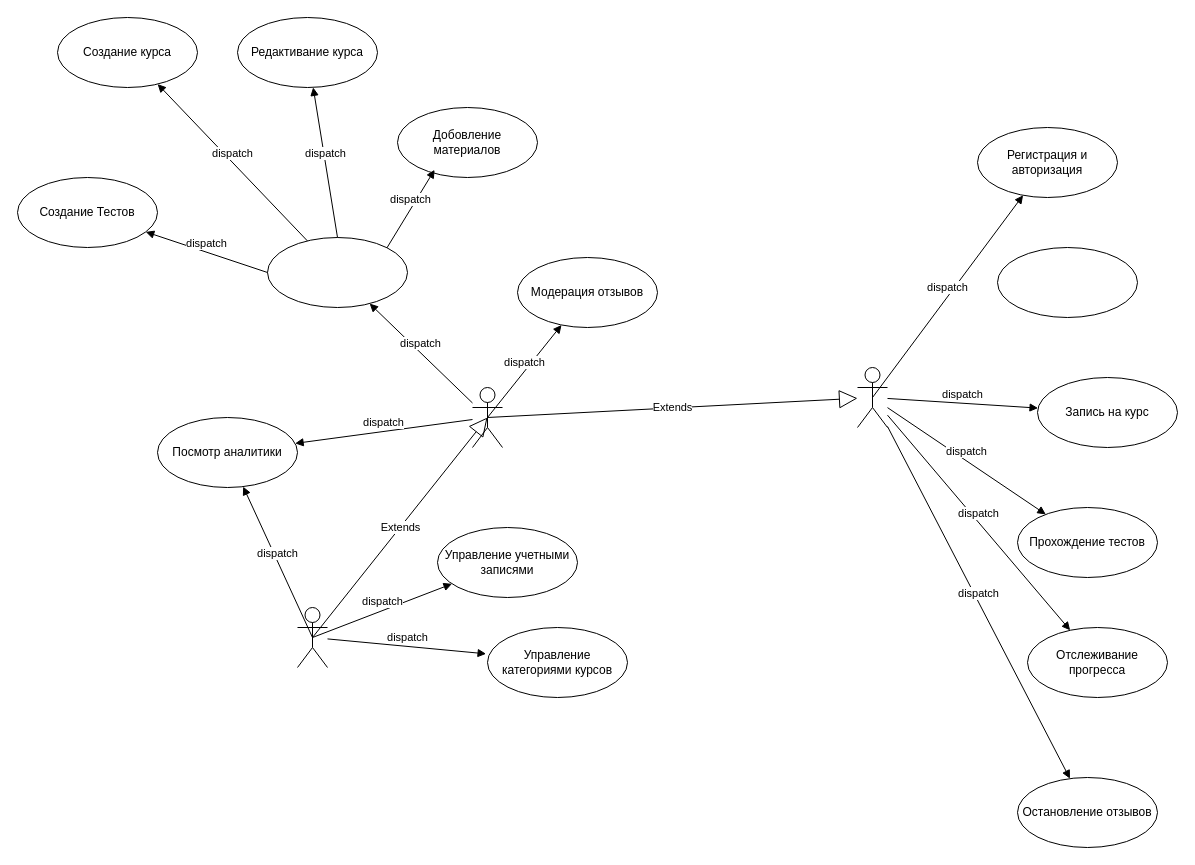
This 1195x865 diagram has some shape labels left out. The shapes that lost their labels are listed below. From the top down, each one's centre as x and y in pixels, then its label:
(x=337, y=272): Создание и редактивование кусов
(x=1067, y=282): Просмотр курсов
(x=487, y=417): Teacher
(x=872, y=397): Student
(x=312, y=637): Admin
